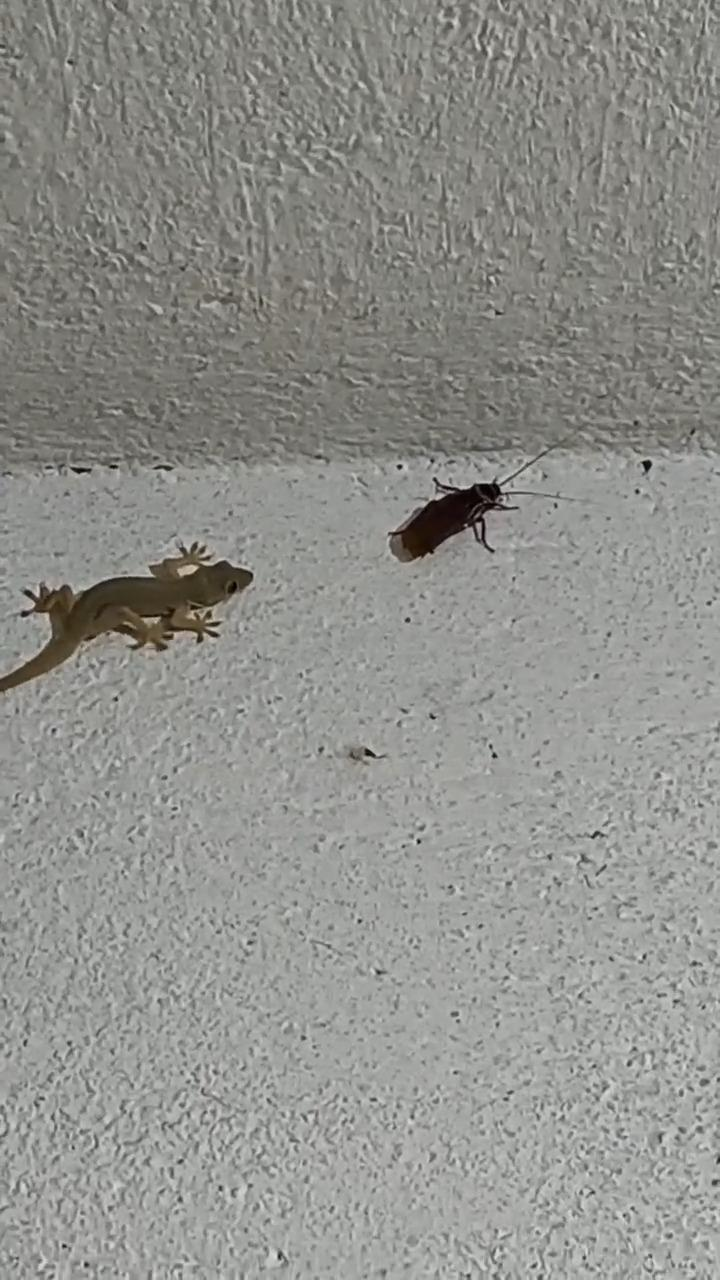cockroach: (378, 468, 529, 568)
lizard: (0, 519, 271, 696)
